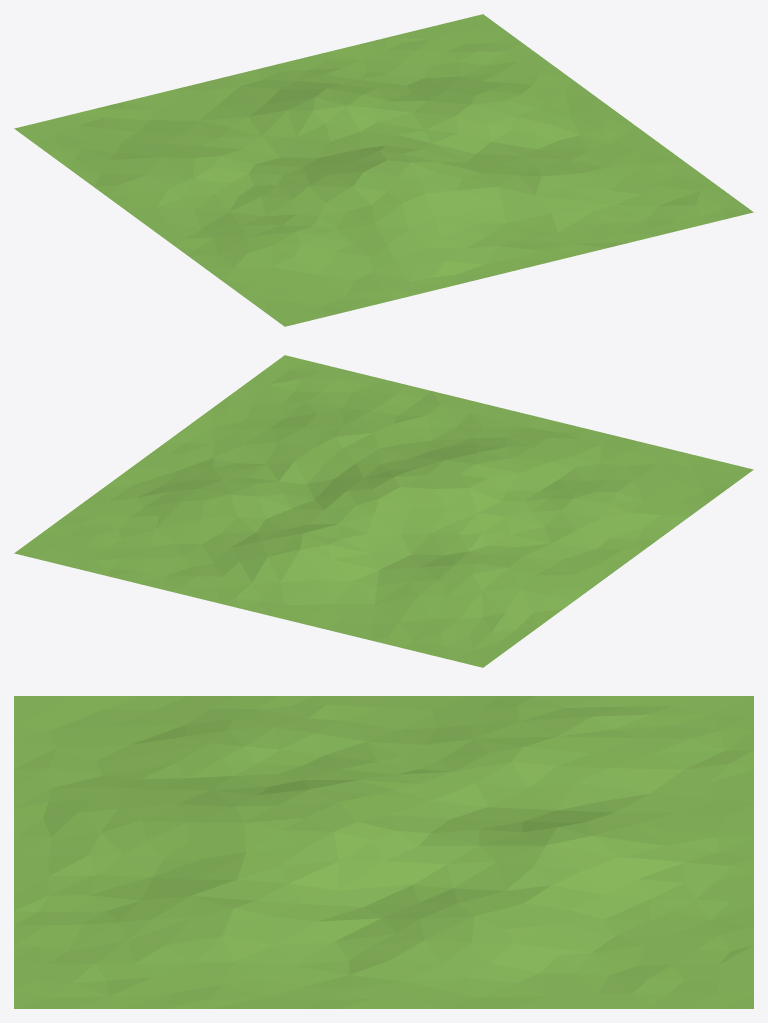
Rendered from MT_Terrain_M_a_06.fbx.
3 renders of one model, top to bottom at view 1: azimuth 30°, elevation 25°; view 2: azimuth 150°, elevation 25°; view 3: azimuth 270°, elevation 25°, orthographic. The views are drawn at different scales.
Parts seen in each view (by area): view 1: MT_Terrain_M_a_06; view 2: MT_Terrain_M_a_06; view 3: MT_Terrain_M_a_06.
Boxes of the visible parts, <box> form: MT_Terrain_M_a_06: <box>14,14,753,326</box>; MT_Terrain_M_a_06: <box>14,355,753,667</box>; MT_Terrain_M_a_06: <box>14,696,753,1008</box>.
Size of the model in its own units: 5000 by 206 by 5000.
